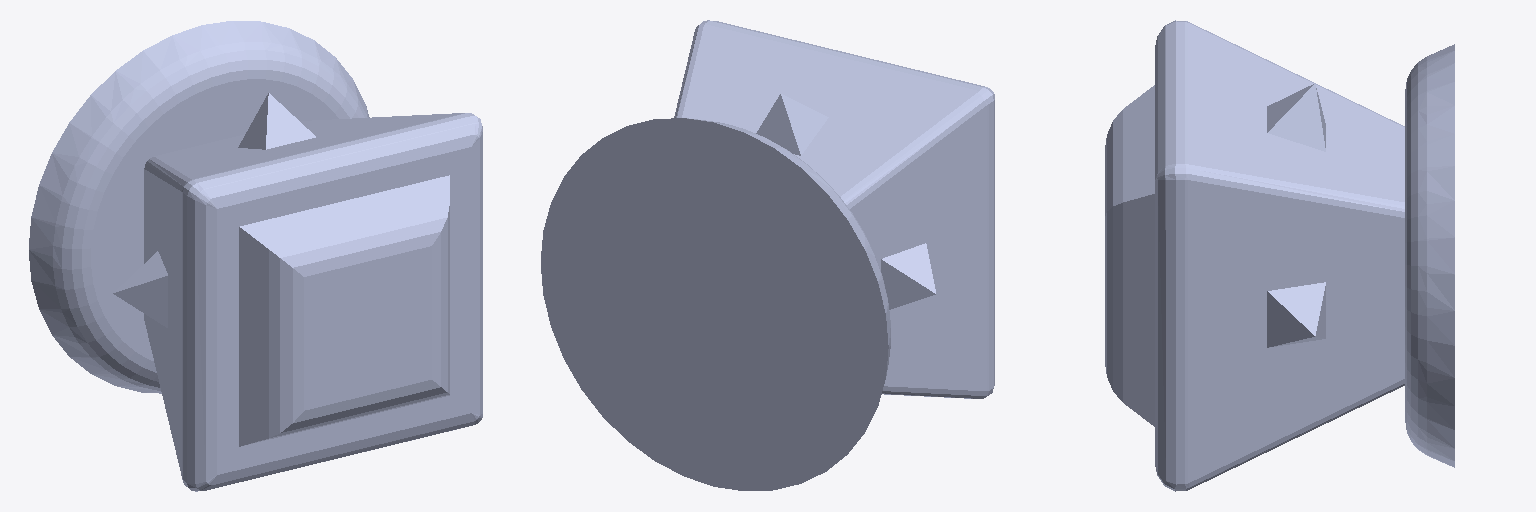
robot.urdf — wall_urdf:
<?xml version="1.0" encoding="utf-8"?>
<!-- This URDF was automatically created by SolidWorks to URDF Exporter! Originally created by [author] ([email redacted]) 
     Commit Version: 1.6.0-1-g15f4949  Build Version: 1.6.7594.29634
     For more information, please see http://wiki.ros.org/sw_urdf_exporter -->
<robot
  name="wall_urdf">
  <link
    name="base_link">
    <inertial>
      <origin
        xyz="-5.30094579523876E-20 -4.44782483131752E-19 0.00345439583983266"
        rpy="0 0 0" />
      <mass
        value="0.000243818698971603" />
      <inertia
        ixx="1.78219172777379E-09"
        ixy="2.94247252452958E-19"
        ixz="2.0613532027932E-25"
        iyy="1.78219173725593E-09"
        iyz="2.1935539155385E-25"
        izz="1.57516489155268E-09" />
    </inertial>
    <visual>
      <origin
        xyz="0 0 0"
        rpy="0 0 0" />
      <geometry>
        <mesh
          filename="package://wall_urdf/meshes/base_link.STL" />
      </geometry>
      <material
        name="">
        <color
          rgba="0.792156862745098 0.819607843137255 0.933333333333333 1" />
      </material>
    </visual>
    <collision>
      <origin
        xyz="0 0 0"
        rpy="0 0 0" />
      <geometry>
        <mesh
          filename="package://wall_urdf/meshes/base_link.STL" />
      </geometry>
    </collision>
  </link>
</robot>

--- Render facts (derived) ---
The picture shows the robot from 3 angles, left to right: view 1: azimuth 30°, elevation 25°; view 2: azimuth 150°, elevation 25°; view 3: azimuth 270°, elevation 25°; orthographic projection.
Robot: wall_urdf — 1 links, 0 joints (none); root link base_link; default pose: all joints at 0.
Links seen in each view (by area): view 1: base_link; view 2: base_link; view 3: base_link.
Boxes of the visible links, bbox=[...] form: base_link: bbox=[29, 21, 482, 491]; base_link: bbox=[541, 20, 994, 490]; base_link: bbox=[1105, 20, 1454, 491].
Size in the robot's own frame: 0.0085 by 0.007 by 0.0085 metres.
Meshes: 1 distinct files referenced, 1 mesh visuals loaded (1 binary STL).